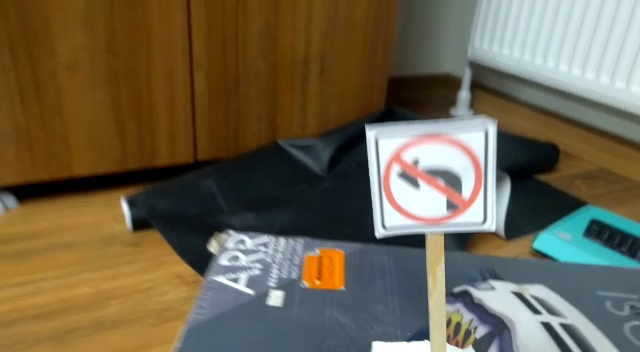sola_donulmez: (383, 127, 487, 228)
